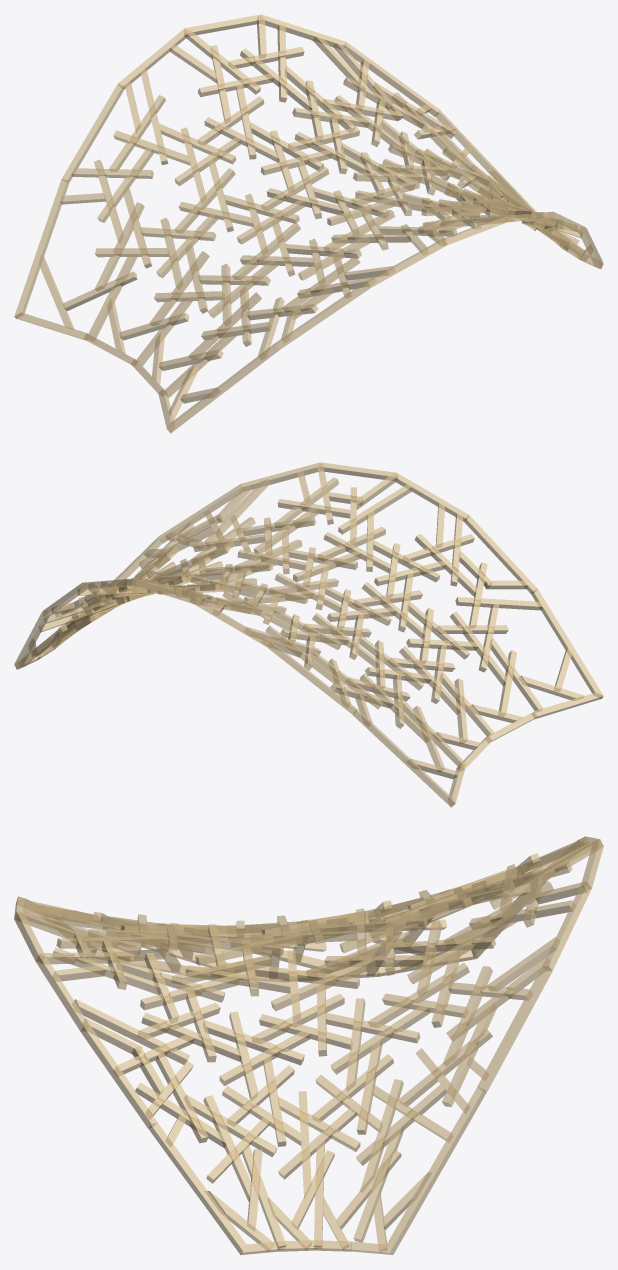
Rendered from final_hexmesh.glb.
3 views of the same model, one above another, from view 1: azimuth 30°, elevation 25°; view 2: azimuth 150°, elevation 25°; view 3: azimuth 270°, elevation 25° (orthographic). The views are drawn at different scales.
Size of the model in its own units: 7.9 by 3.06 by 6.52.
